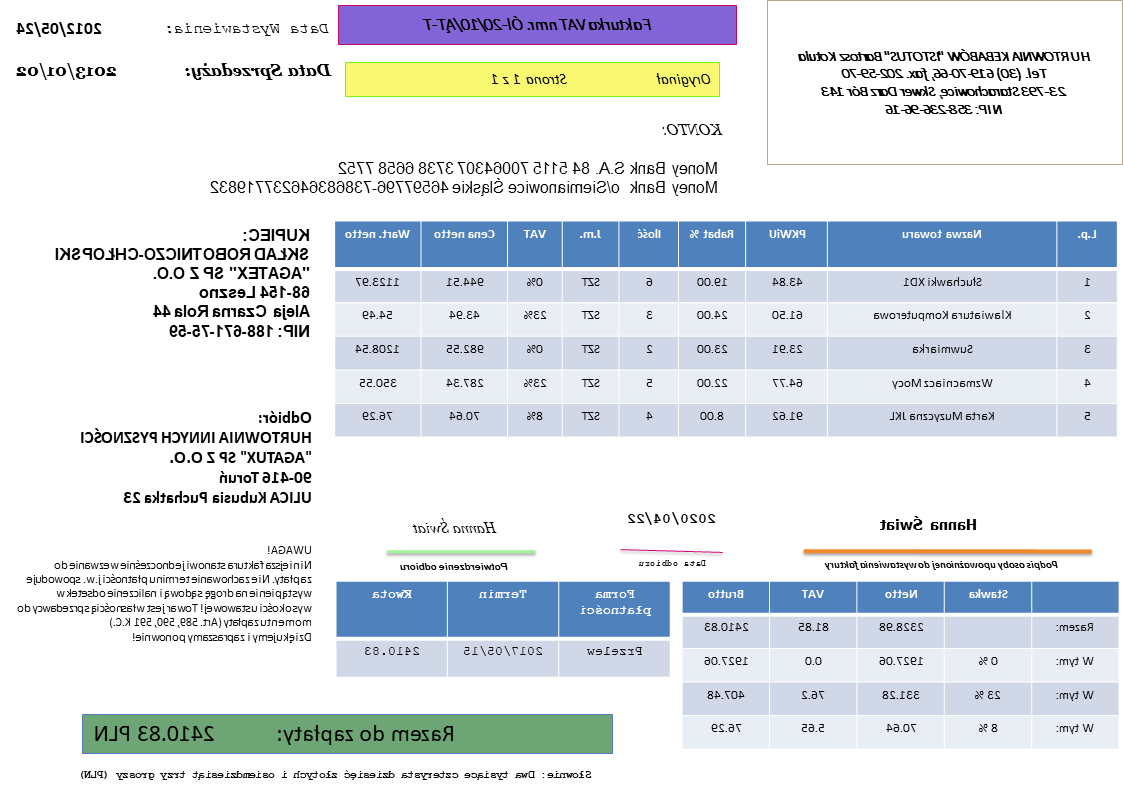Table: (332, 219, 1119, 439), (679, 578, 1122, 751), (336, 579, 672, 679)
TextBox: (14, 540, 316, 646), (53, 223, 314, 341), (78, 406, 315, 508), (207, 154, 721, 198), (795, 47, 1094, 119), (91, 718, 458, 747), (78, 765, 594, 785), (488, 68, 715, 91), (418, 14, 657, 34), (182, 59, 333, 85), (819, 556, 1061, 572), (164, 20, 333, 39), (10, 60, 118, 83), (876, 513, 982, 534), (624, 507, 720, 530), (12, 18, 106, 40), (409, 516, 499, 537), (397, 559, 513, 574), (659, 117, 726, 139), (636, 555, 709, 569)
